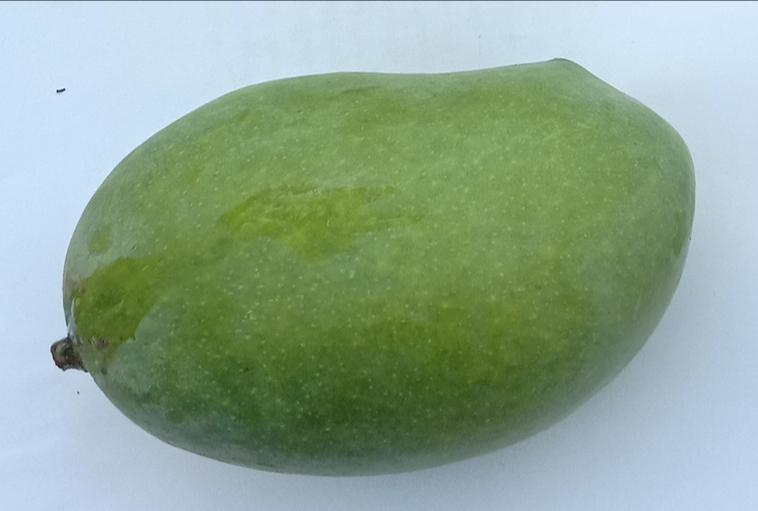Mango Unripe: (29, 53, 695, 474)
